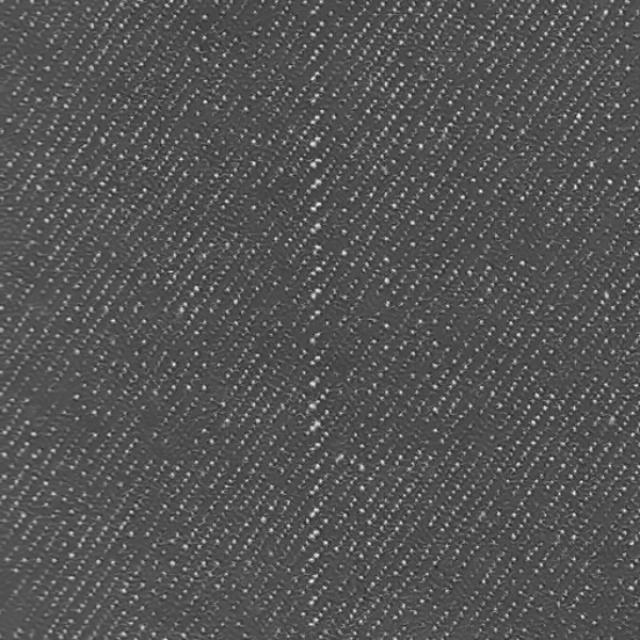stains: (222, 13, 432, 604)
